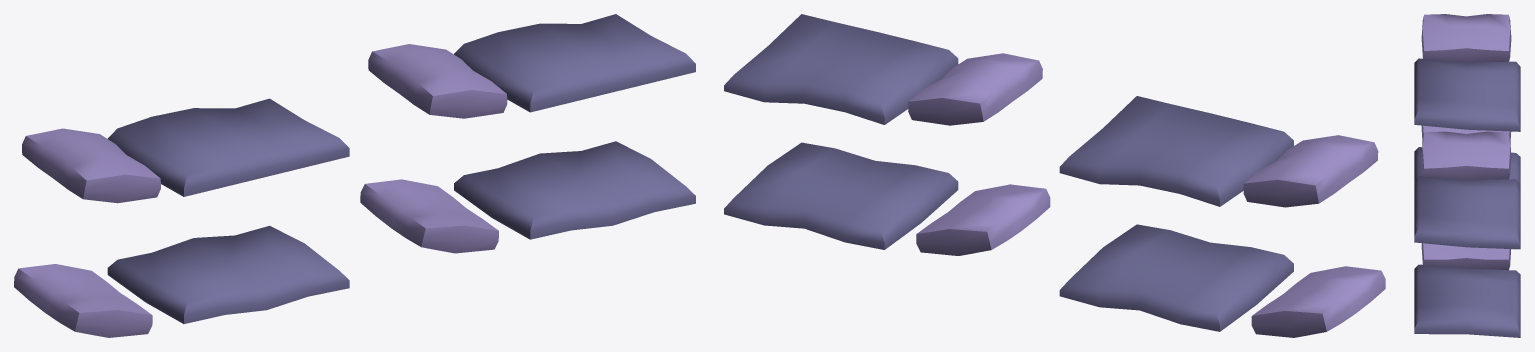
The model's file is seamanroom2.fbx.
3 views of the same model, side by side, from view 1: azimuth 30°, elevation 25°; view 2: azimuth 150°, elevation 25°; view 3: azimuth 270°, elevation 25° (orthographic). The views are drawn at different scales.
Parts seen in each view (by area): view 1: seamanroom2; view 2: seamanroom2; view 3: seamanroom2.
Boxes of the visible parts, x1,y1,x2,y2 form: seamanroom2: [14, 14, 695, 337]; seamanroom2: [724, 14, 1385, 337]; seamanroom2: [1414, 14, 1520, 337].
Bounding box in the file's own units: 477 × 131 × 102.
1 material, 1 textured.
